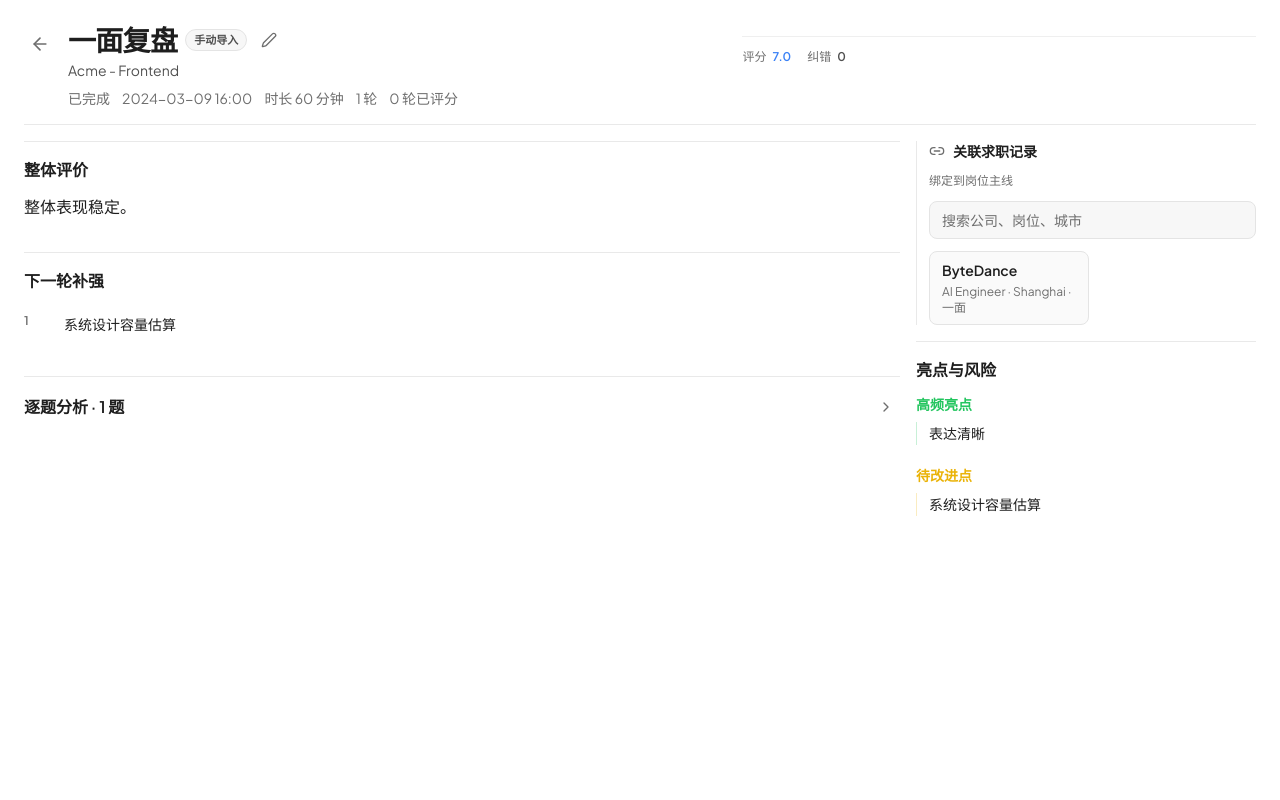
ReviewSessionDetail › shows screenshot self-check evidence in turn details
The image size is (1280, 800).
Check: the heading "逐题分析 · 1 题" is shown, box x1=24 y1=395 x2=124 y2=419
Step 1. Click the button "逐题分析 · 1 题" → (74,406), box x1=24 y1=381 x2=900 y2=433
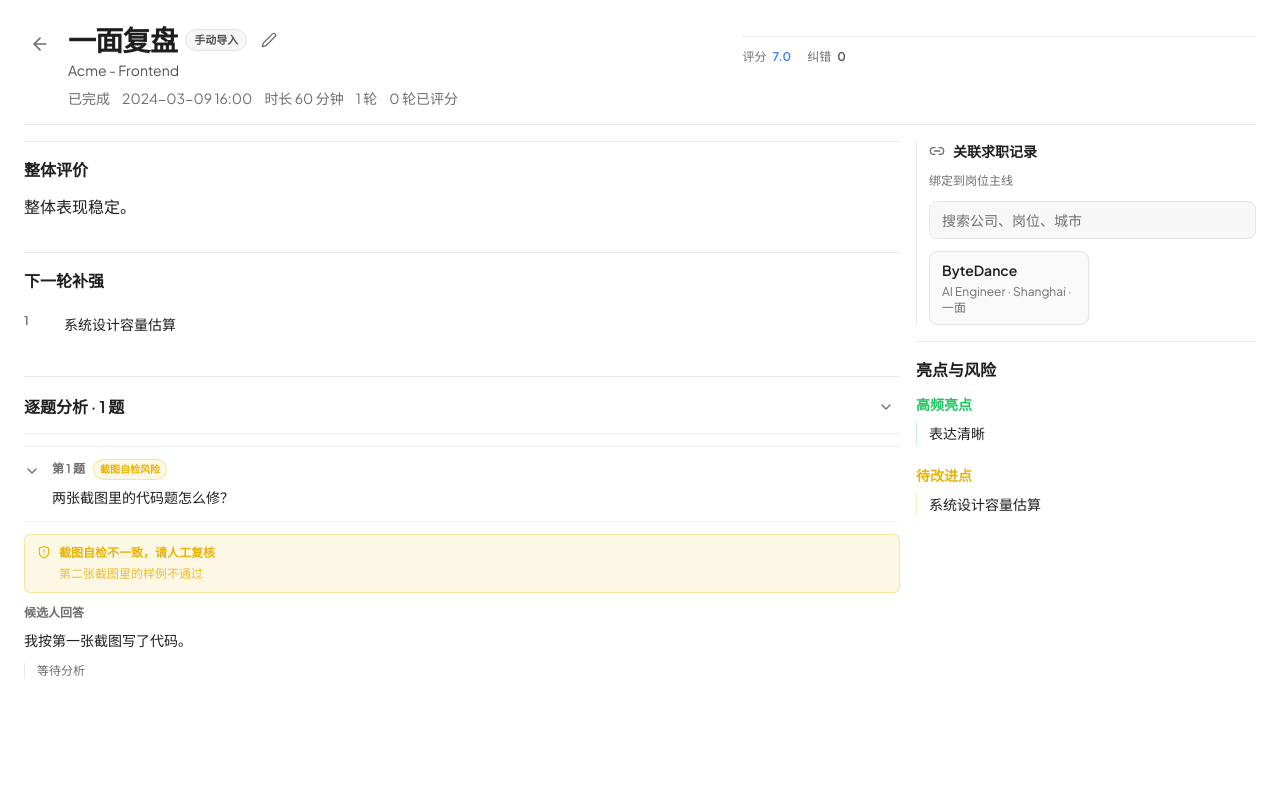
Check: the text "两张截图里的代码题怎么修？" is shown, box x1=52 y1=488 x2=234 y2=506
Check: the text "截图自检风险" is shown, box x1=93 y1=459 x2=167 y2=480
Check: the message shows "截图自检不一致，请人工复核", box x1=59 y1=544 x2=215 y2=560
